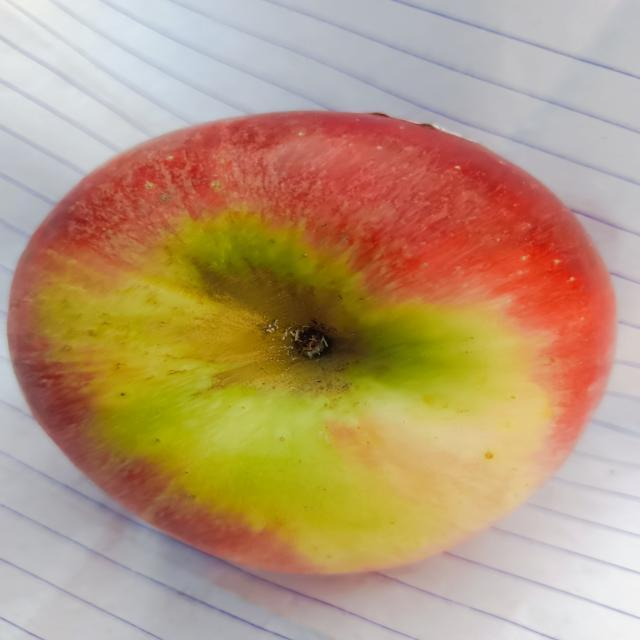Fresh Apple: (7, 105, 619, 579)
